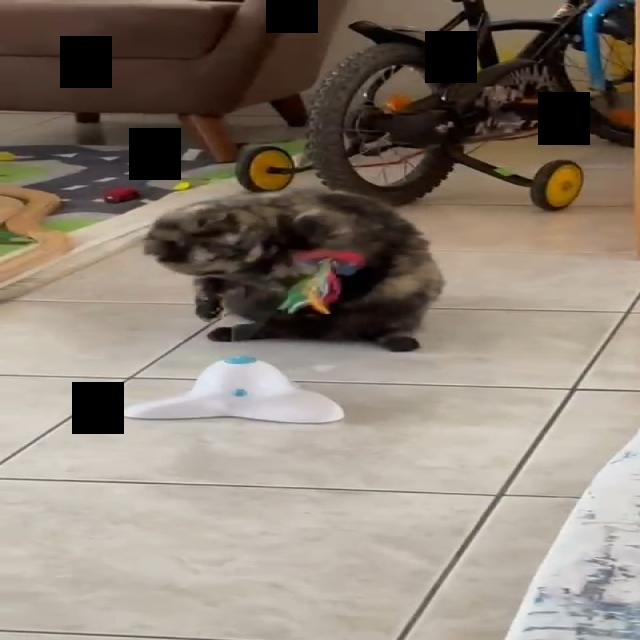authorized: (142, 187, 446, 352)
